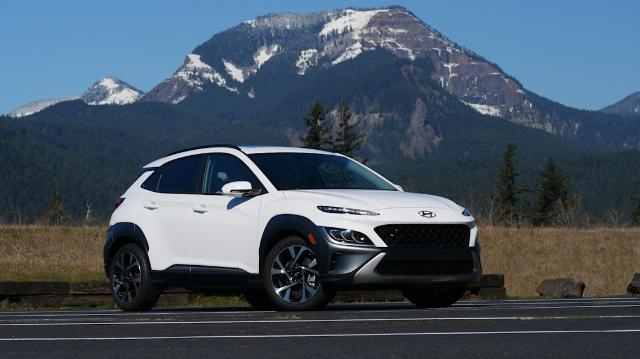hyundai: (103, 144, 483, 312)
